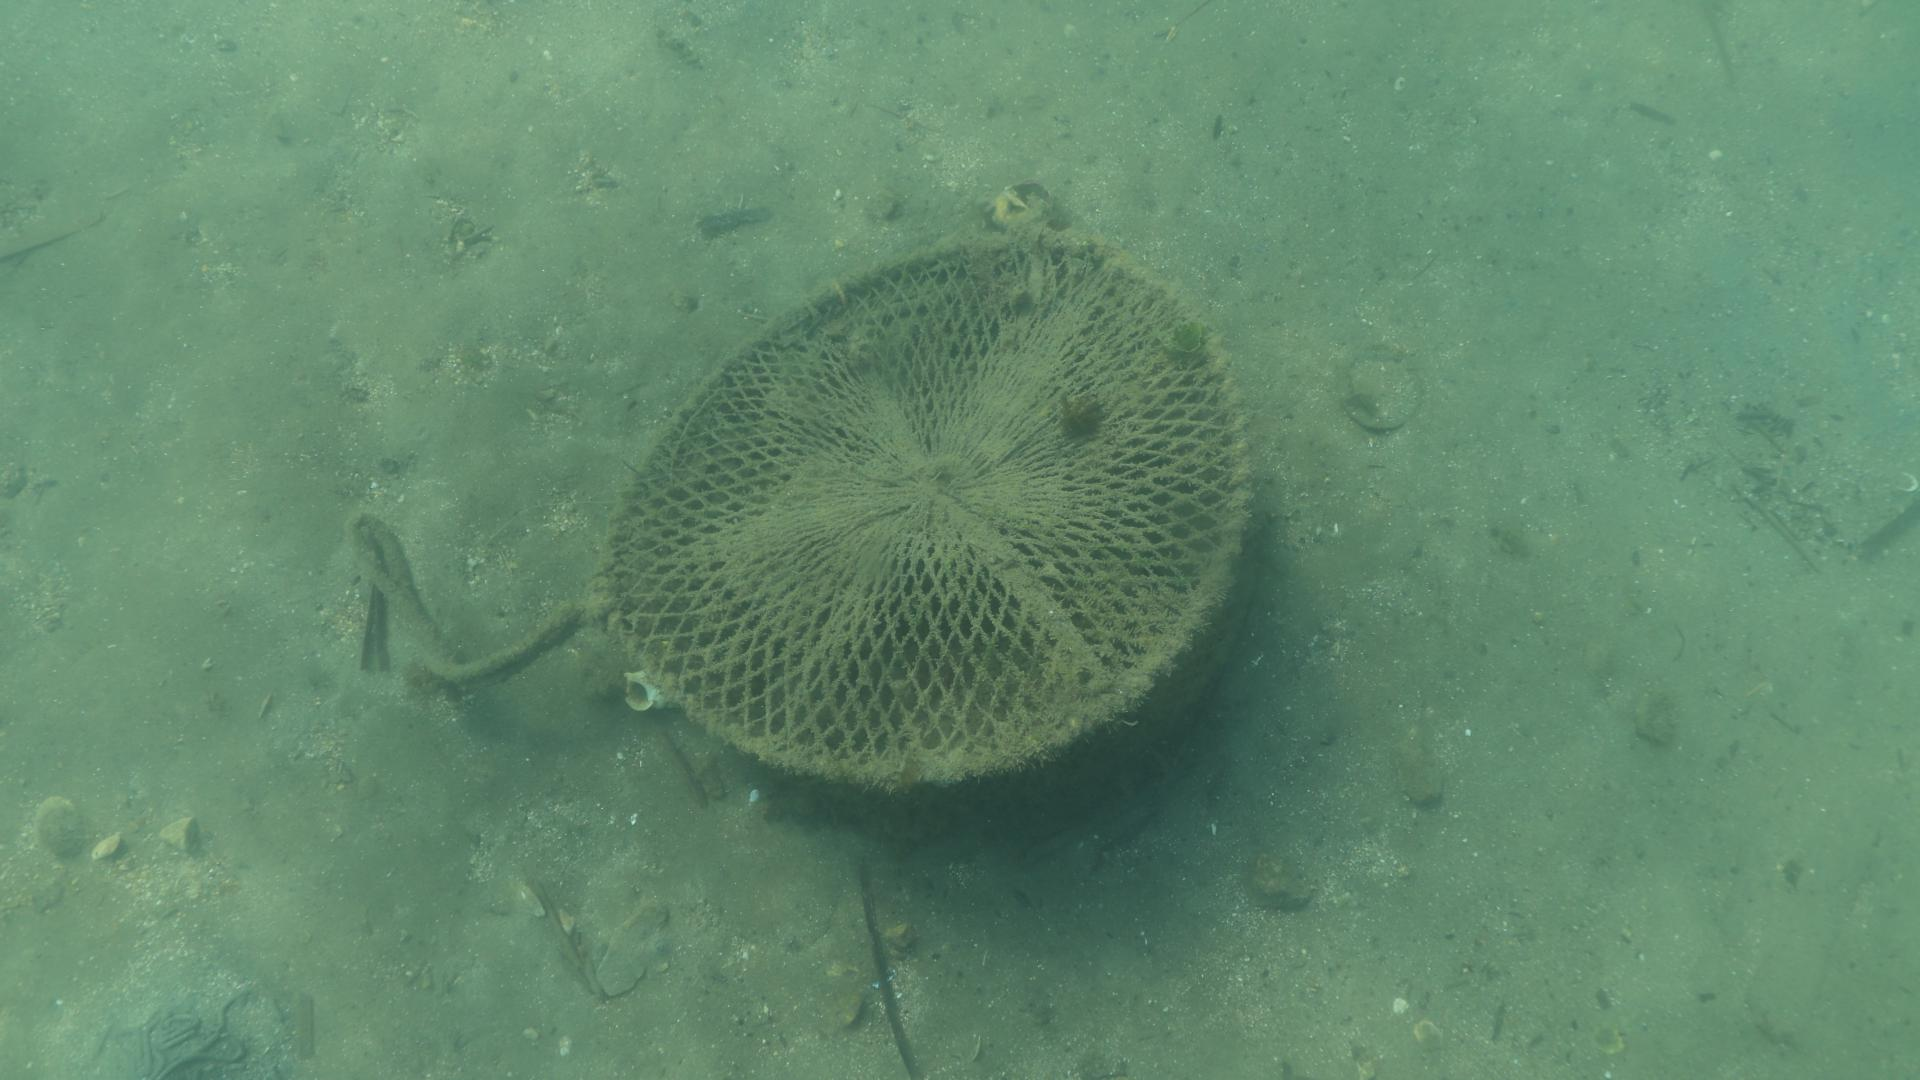bundle of ropes: (340, 508, 588, 690)
circular fish trap: (595, 233, 1255, 828)
